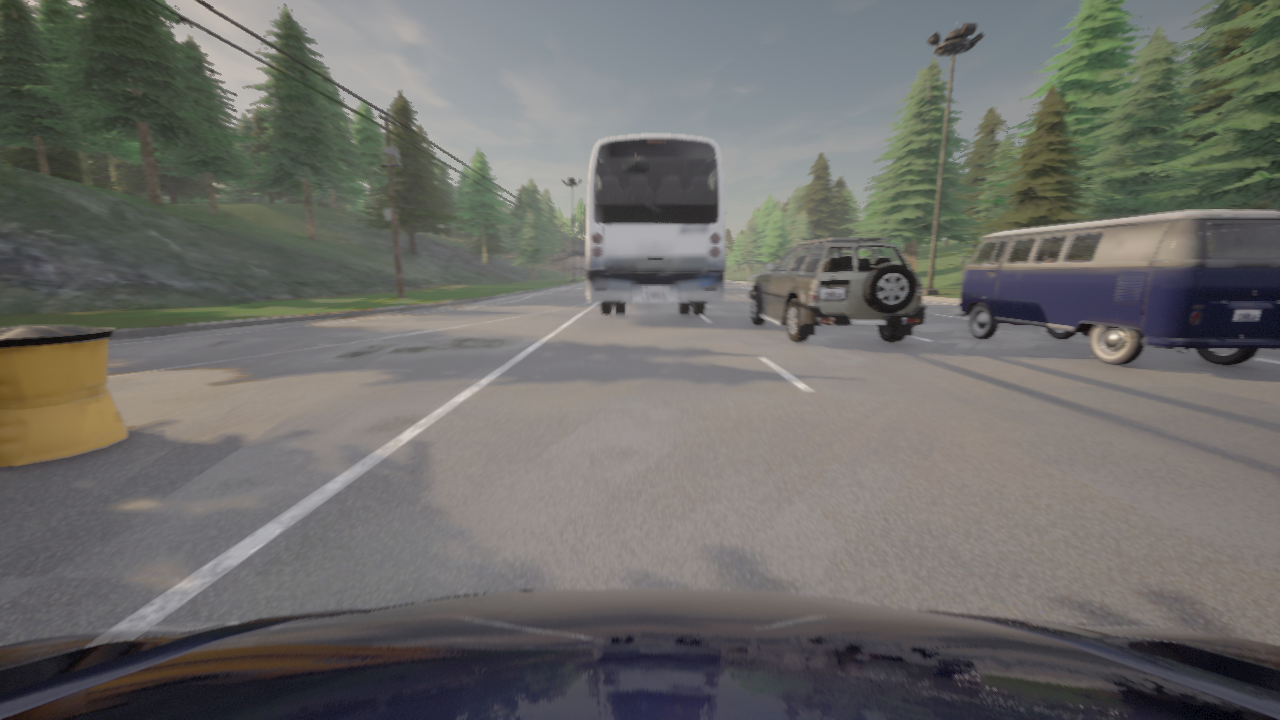cyclist: (0, 588, 1279, 719), (955, 210, 1279, 365), (585, 134, 724, 315), (747, 238, 926, 342)
